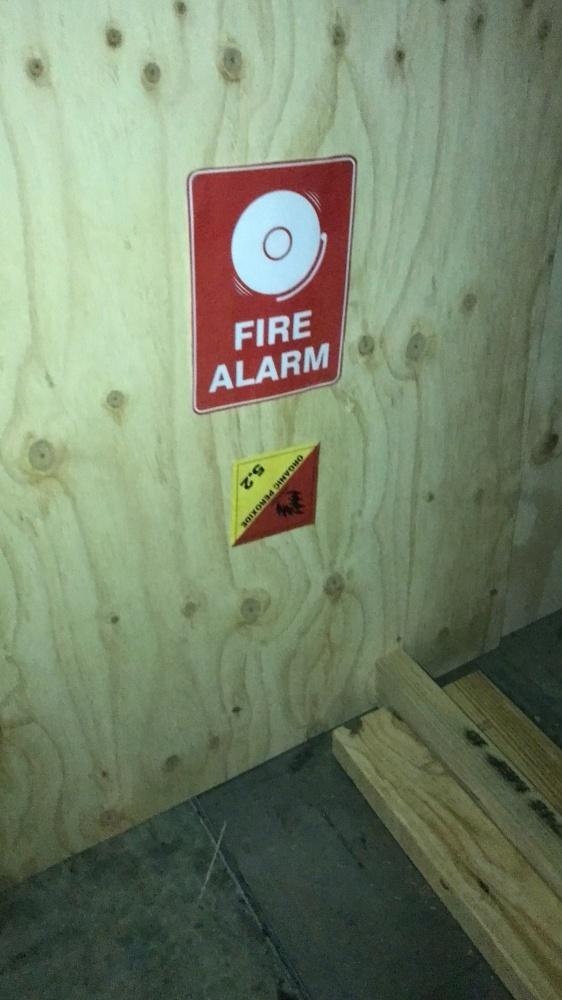organic-peroxide: (229, 442, 324, 550)
